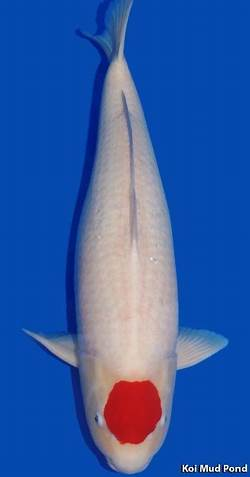sun: (22, 1, 228, 476)
